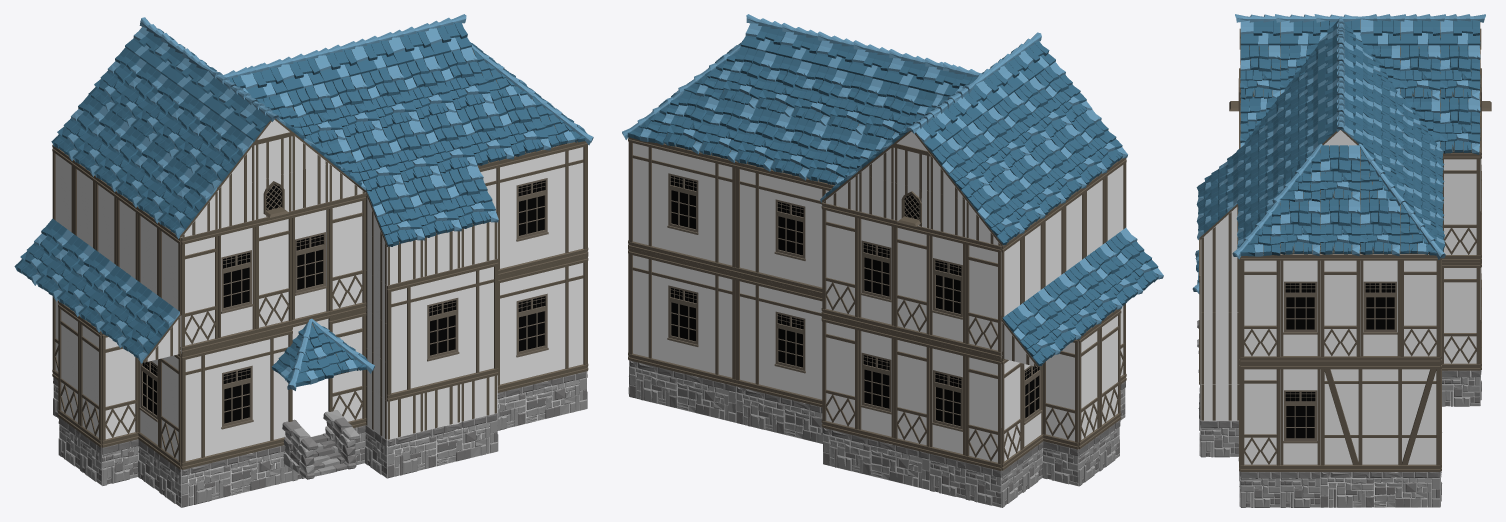
File: House_19_parts.glb
3 renders of one model, left to right at view 1: azimuth 30°, elevation 25°; view 2: azimuth 150°, elevation 25°; view 3: azimuth 270°, elevation 25°, orthographic. The views are drawn at different scales.
Parts seen in each view (by area): view 1: WINDOW_03_9, WINDOW_03_2, WINDOW_03_8, WINDOW_03_7, WALL_01_23, WINDOW_04_13, WALL_01_22, FOUNDATION_02_31, WALL_01_21, WINDOW_04_12, FOUNDATION_02_25, WALL_01_4 (+88 smaller); view 2: WINDOW_03_4, WINDOW_03_5, WINDOW_03_6, WINDOW_03_3, WALL_01_14, WALL_01_12, WALL_01_9, WALL_01_11, WINDOW_04_8, WINDOW_04_7, WALL_01_10, WALL_01_13 (+76 smaller); view 3: WALL_02_2, WINDOW_04_9, WINDOW_04_10, WALL_01_18, WALL_01_19, WINDOW_04_11, WALL_01_20, WALL_01_17, FOUNDATION_02_27, WALL_01_15, WALL_01_16, ROOF_base_52 (+59 smaller).
Boxes of the visible parts, <box> form: WINDOW_03_9: <box>386,258,498,401</box>; WINDOW_03_2: <box>181,327,292,469</box>; WINDOW_03_8: <box>478,141,587,276</box>; WINDOW_03_7: <box>497,255,587,392</box>; WALL_01_23: <box>181,229,219,354</box>; WINDOW_04_13: <box>218,220,255,345</box>; WALL_01_22: <box>255,211,292,335</box>; FOUNDATION_02_31: <box>387,413,497,478</box>; WALL_01_21: <box>329,193,366,317</box>; WINDOW_04_12: <box>292,202,329,327</box>; FOUNDATION_02_25: <box>181,445,291,507</box>; WALL_01_4: <box>102,333,138,447</box>; WINDOW_03_4: <box>628,248,735,385</box>; WINDOW_03_5: <box>628,137,735,273</box>; WINDOW_03_6: <box>735,161,834,294</box>; WINDOW_03_3: <box>735,274,822,407</box>; WALL_01_14: <box>965,237,1001,358</box>; WALL_01_12: <box>822,202,858,323</box>; WALL_01_9: <box>965,350,1001,470</box>; WALL_01_11: <box>822,315,858,435</box>; WINDOW_04_8: <box>929,229,965,349</box>; WINDOW_04_7: <box>858,211,893,332</box>; WALL_01_10: <box>893,333,929,453</box>; WALL_01_13: <box>893,220,929,341</box>; WALL_02_2: <box>1320,363,1440,471</box>; WINDOW_04_9: <box>1280,254,1320,363</box>; WINDOW_04_10: <box>1360,254,1400,363</box>; WALL_01_18: <box>1320,254,1360,363</box>; WALL_01_19: <box>1400,254,1440,363</box>; WINDOW_04_11: <box>1280,363,1320,471</box>; WALL_01_20: <box>1240,363,1280,471</box>; WALL_01_17: <box>1240,254,1280,363</box>; FOUNDATION_02_27: <box>1320,472,1440,507</box>; WALL_01_15: <box>1442,262,1480,370</box>; WALL_01_16: <box>1442,153,1480,261</box>; ROOF_base_52: <box>1320,198,1360,256</box>.
Size of the model in its own units: 12.31 by 9.65 by 7.49.
Materials: 1 (1 with a texture image).
